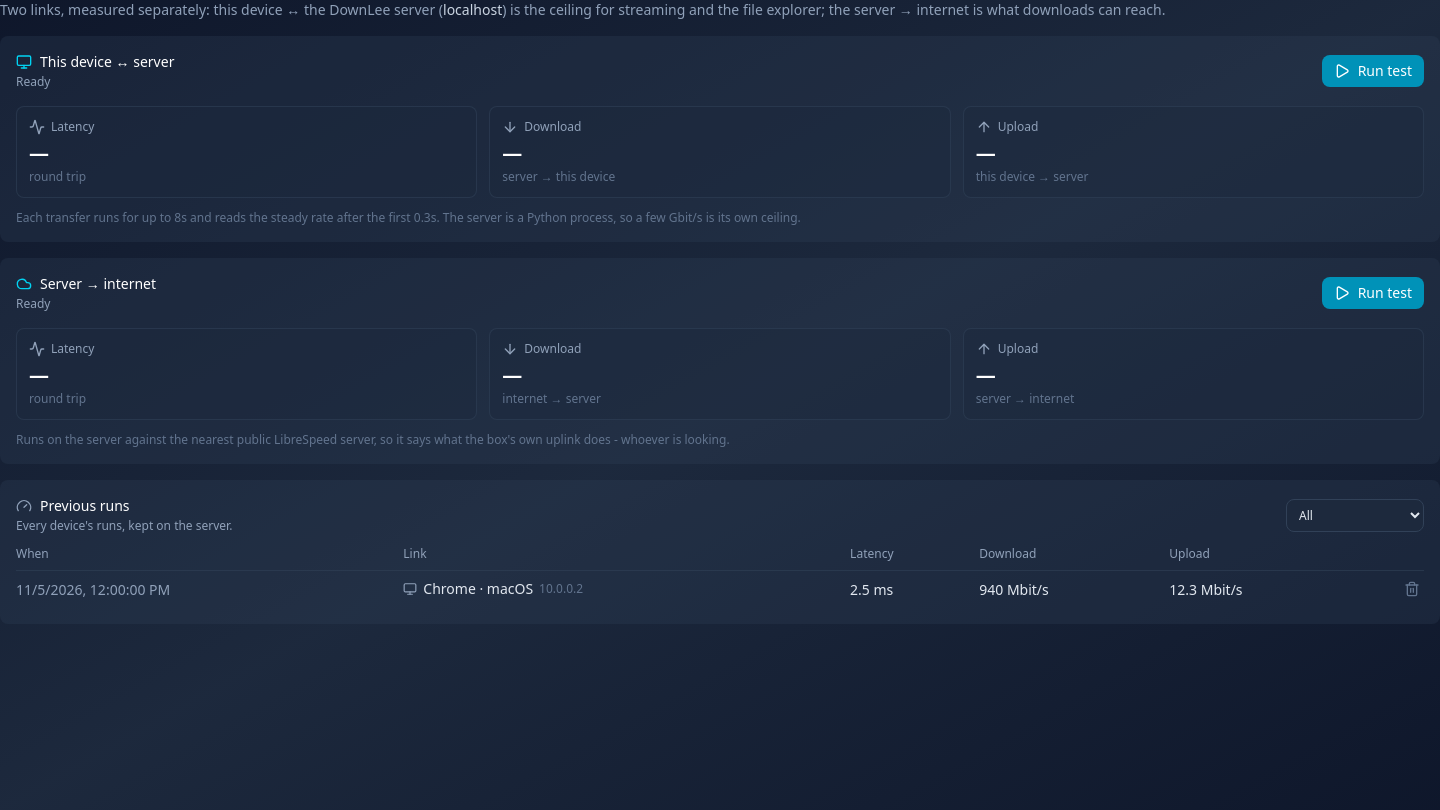
SpeedTestSettings - layout and history › deleting a run asks first, then removes it
Click the button titled "Delete this run".
click(1412, 589)  # box [1400,577,1424,601]
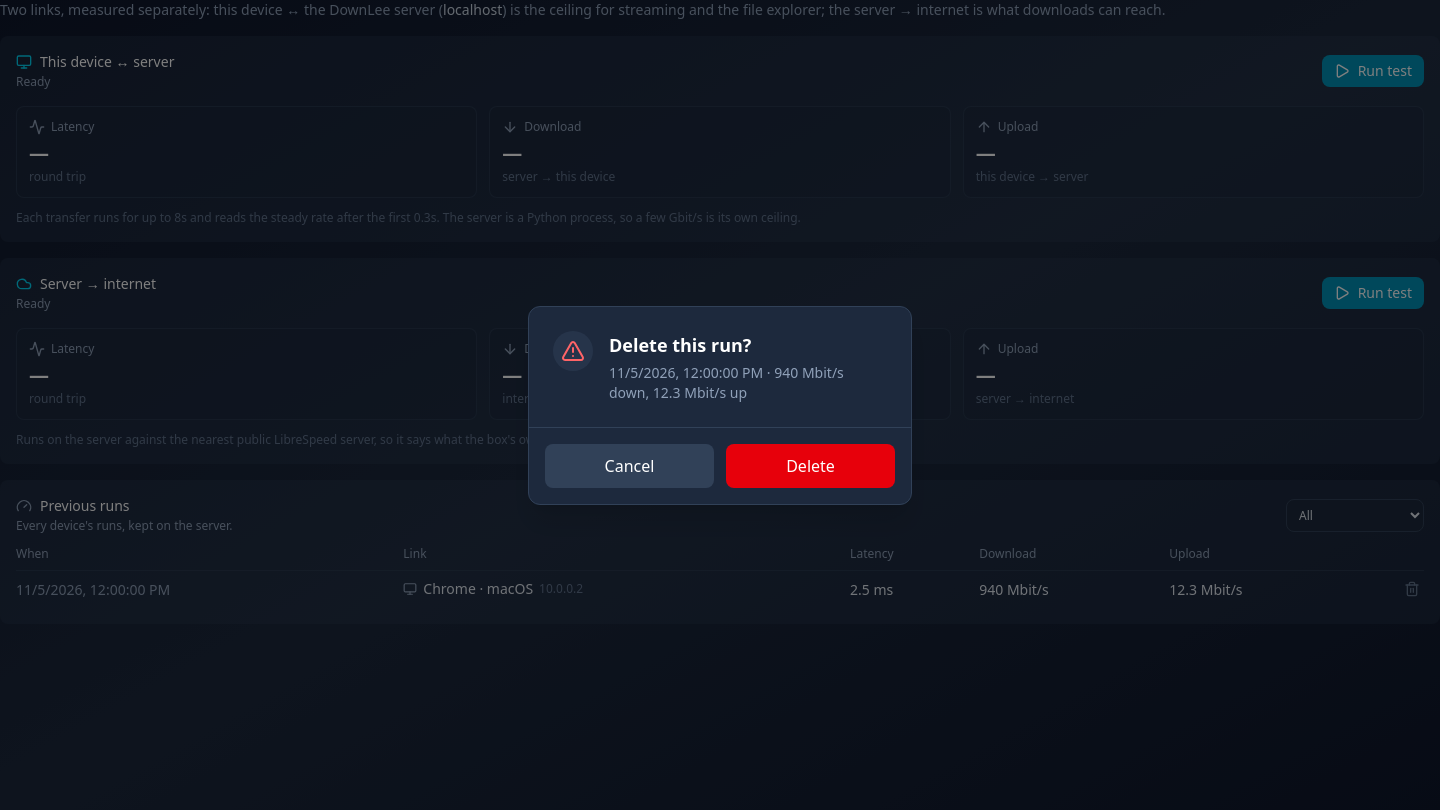
Expected: the heading "Delete this run?" is shown, [609,332,751,356]
Expected: the text "11/5/2026, 12:00:00 PM · 940 Mbit/s down, 12.3 Mbit/s up" is shown, [609,362,844,402]
Click the button "Delete".
click(810, 466)  # box [726,444,895,488]
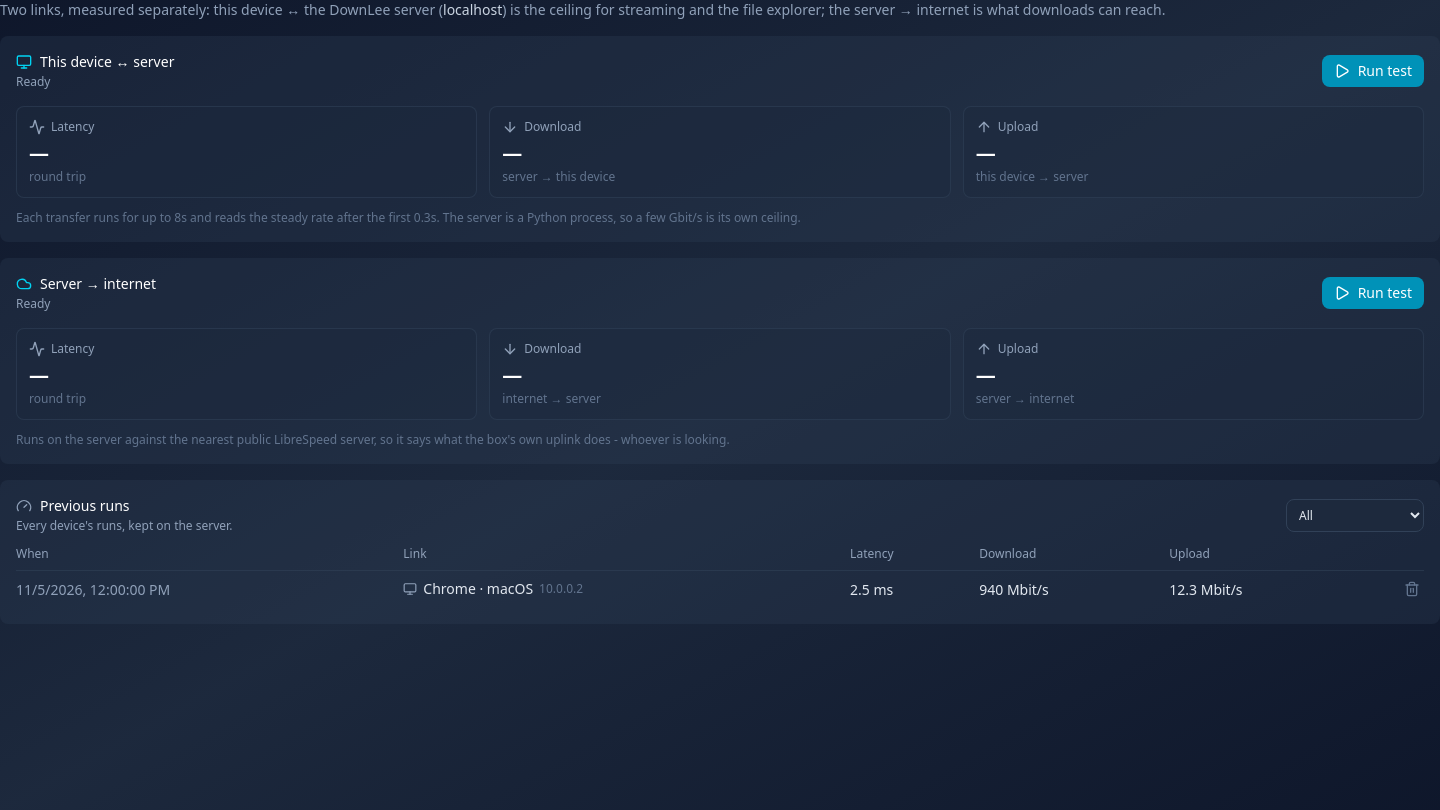
Expected: the heading "Delete this run?" is gone
